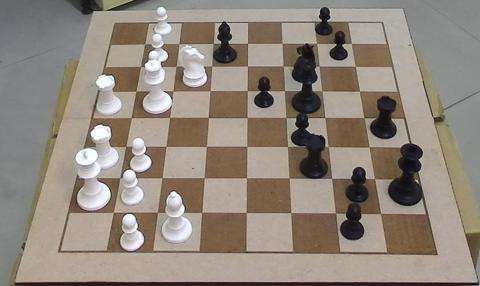xcorner: (346, 39, 356, 49), (311, 39, 321, 49), (277, 39, 287, 49), (242, 39, 252, 49), (208, 39, 218, 49), (139, 39, 149, 49), (350, 62, 360, 72), (314, 62, 324, 72), (278, 62, 288, 72), (135, 61, 145, 71), (317, 86, 327, 96), (279, 86, 289, 96), (242, 86, 252, 96), (205, 86, 215, 96), (320, 113, 330, 123), (281, 113, 291, 123), (242, 113, 252, 123), (203, 113, 213, 123), (164, 113, 174, 123), (365, 143, 375, 153), (242, 142, 252, 152), (201, 142, 211, 152), (161, 142, 171, 152), (120, 142, 130, 152), (242, 174, 252, 184), (199, 174, 209, 184), (157, 174, 167, 184), (114, 174, 124, 184), (377, 211, 387, 221), (332, 210, 342, 220), (242, 210, 252, 220), (197, 209, 207, 219), (152, 209, 162, 219), (108, 209, 118, 219), (174, 39, 183, 49), (242, 62, 252, 71), (206, 62, 216, 71), (171, 62, 181, 71), (168, 86, 177, 96), (131, 86, 140, 96), (359, 114, 369, 123), (324, 143, 333, 153), (283, 143, 293, 152), (371, 175, 380, 185), (328, 175, 337, 185), (287, 210, 296, 220), (355, 87, 364, 96), (126, 113, 135, 122), (285, 175, 294, 184)
